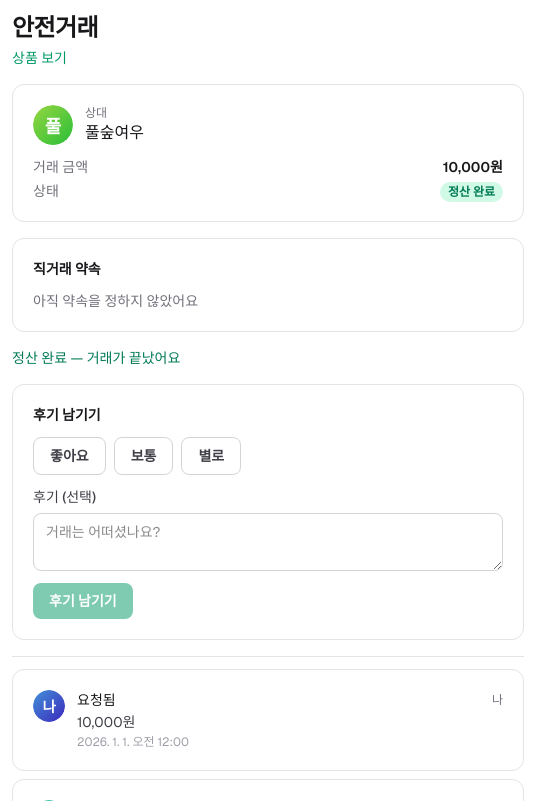
Test: EscrowRoom — trade review (RELEASED only, one per author) › maps ALREADY_REVIEWED to the review catalog message (not the escrow one), never the raw server text
Click the button "보통" at (144, 456), box [114,437,173,475]
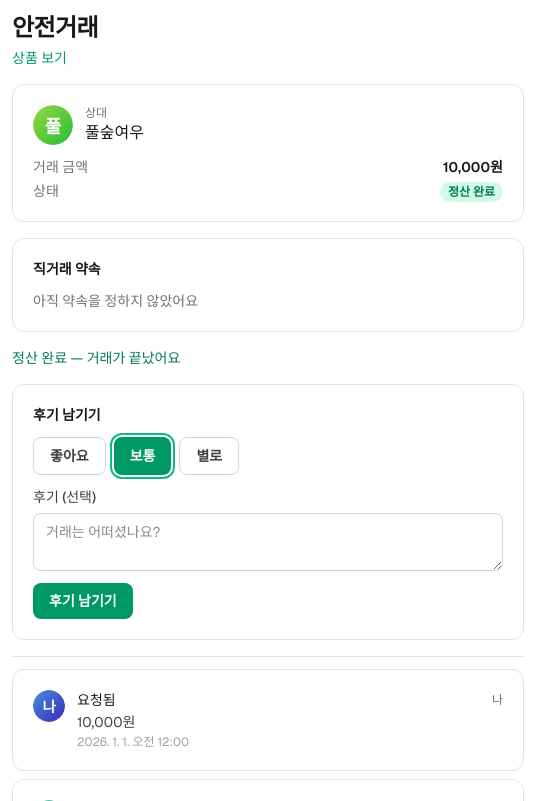
Click the button "후기 남기기" at (83, 601), box [33,583,133,619]
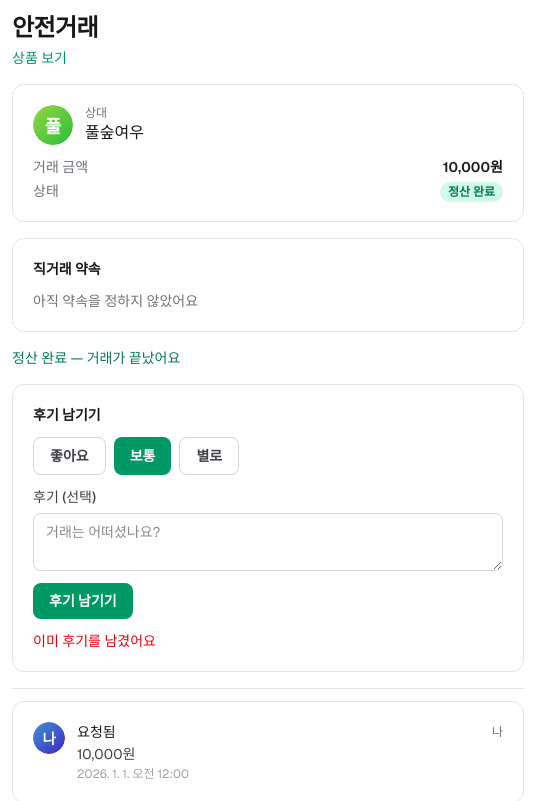
Expected: the message reads "이미 후기를 남겼어요", [33,632,156,650]
